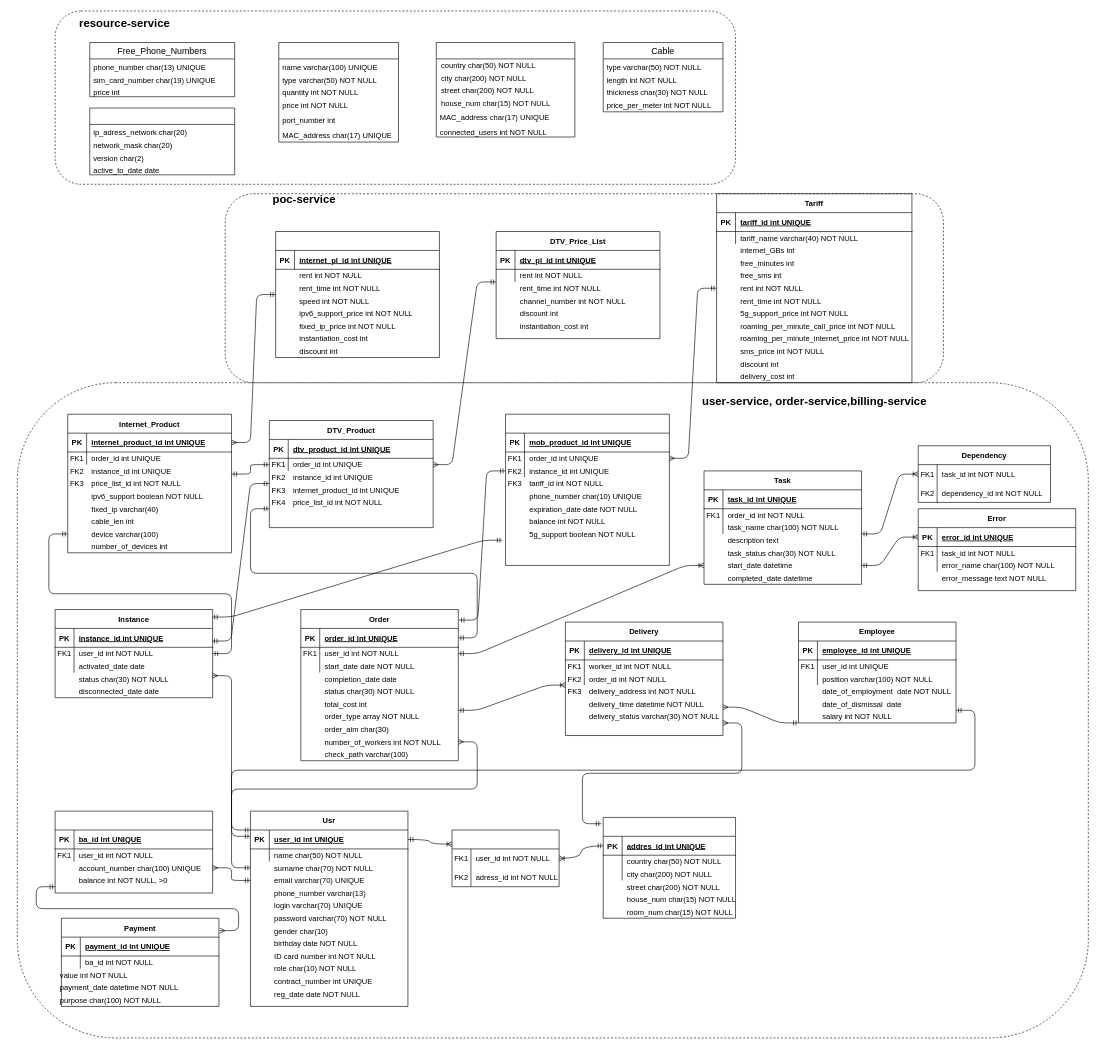
Image size: 1111x1049. Some labels were removed from this diagram. Here are the shapes that lost their labels. From the top down, the box of each, then its label:
(278, 42, 398, 142): Device
(436, 42, 575, 137): Connected_Buildings
(89, 107, 235, 175): IP_address_pool
(275, 231, 439, 358): Internet_Price_List
(505, 414, 669, 565): Mobile_Product
(54, 810, 213, 893): Billing_Account
(451, 829, 559, 887): User_Adress
(603, 817, 736, 918): Adress
